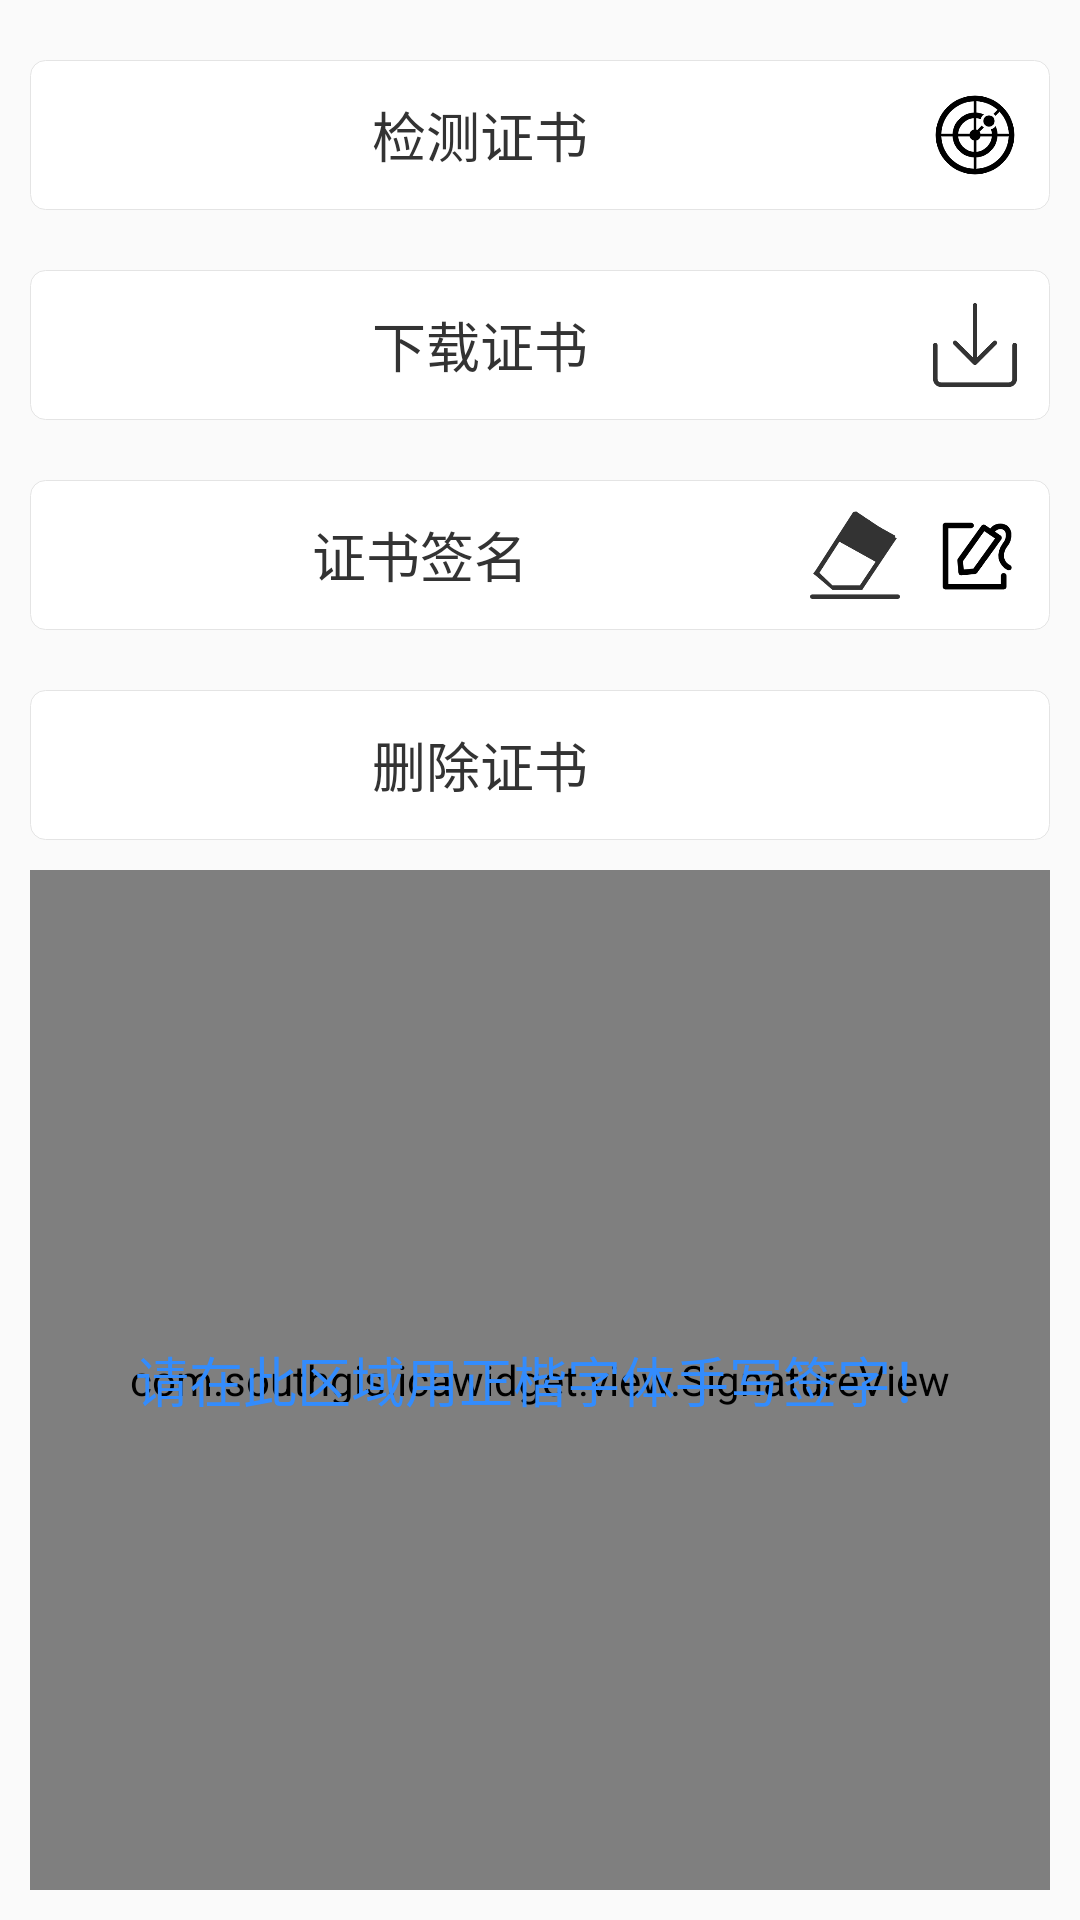

Screen size 1080 × 1920. Icon name, then its box in pixels as region(x1, y1, x2, y2):
clear: region(810, 511, 900, 599)
download: region(933, 303, 1017, 387)
sign: region(942, 522, 1012, 590)
